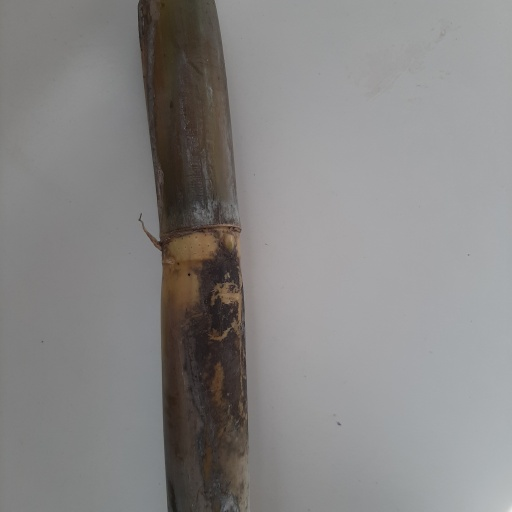Bud: (220, 229, 239, 259)
